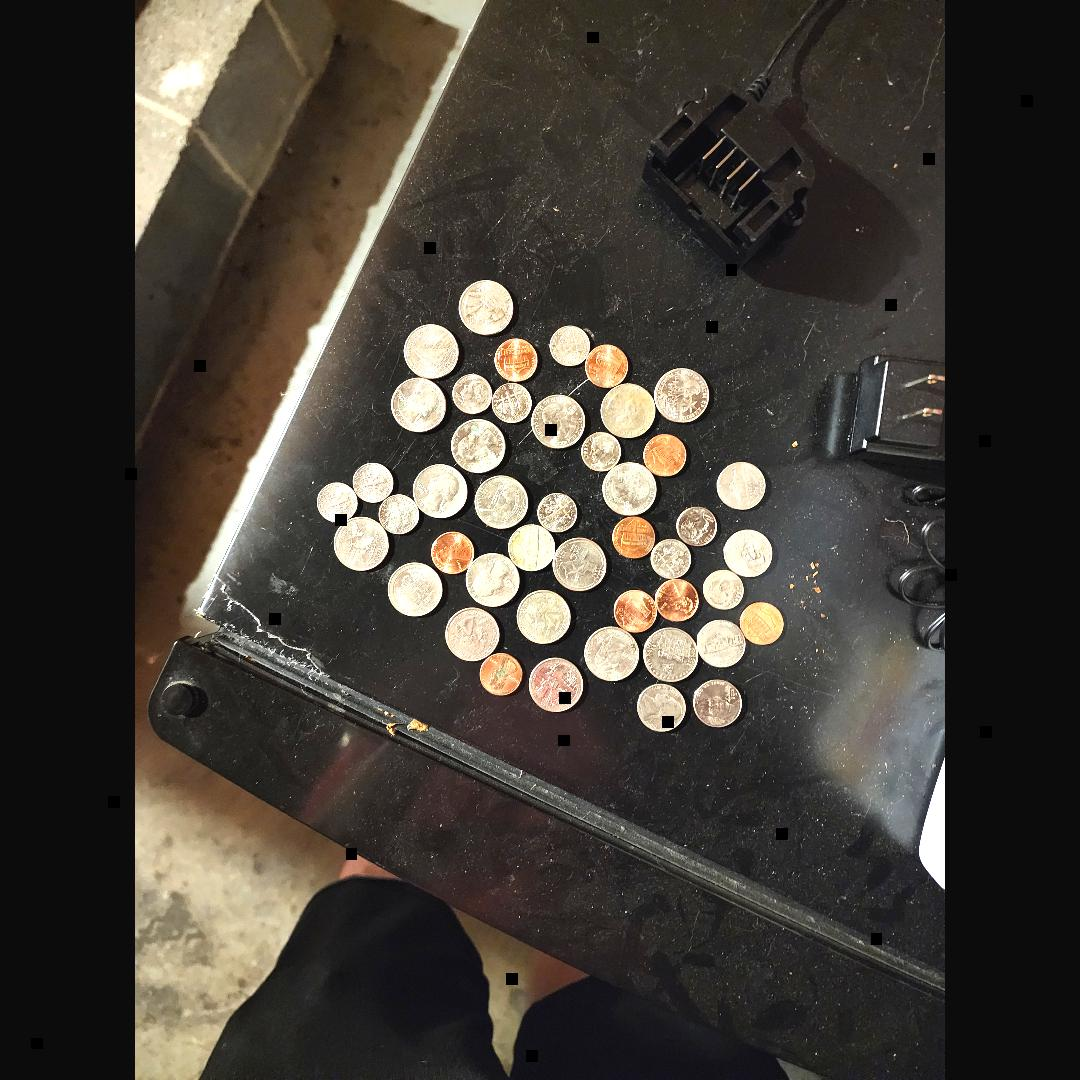Dime: (652, 538, 691, 580), (550, 325, 590, 365), (676, 506, 716, 546), (378, 494, 418, 534), (318, 482, 357, 522), (493, 383, 532, 423), (453, 373, 492, 413), (703, 570, 742, 610), (354, 462, 392, 502), (539, 492, 577, 530), (580, 432, 620, 468)
Nickel: (722, 530, 774, 576), (634, 684, 686, 730), (692, 680, 744, 726), (696, 620, 747, 666), (716, 463, 766, 509), (509, 525, 555, 571)
Penny: (586, 344, 628, 388), (656, 581, 698, 624), (614, 516, 654, 560), (496, 338, 536, 382), (742, 602, 783, 644), (481, 654, 522, 696), (616, 590, 656, 632), (645, 434, 685, 475), (432, 532, 472, 572)
Quarter: (476, 474, 530, 528), (404, 323, 458, 377), (466, 552, 520, 606), (334, 518, 388, 572), (645, 627, 698, 681), (388, 563, 441, 617), (586, 627, 638, 681), (532, 393, 584, 447), (452, 418, 504, 472), (530, 657, 582, 711), (414, 465, 466, 519), (518, 590, 570, 644), (656, 369, 708, 423), (554, 538, 606, 592), (460, 281, 512, 335), (602, 461, 654, 515), (392, 377, 444, 431), (602, 382, 653, 436), (445, 608, 495, 660)
